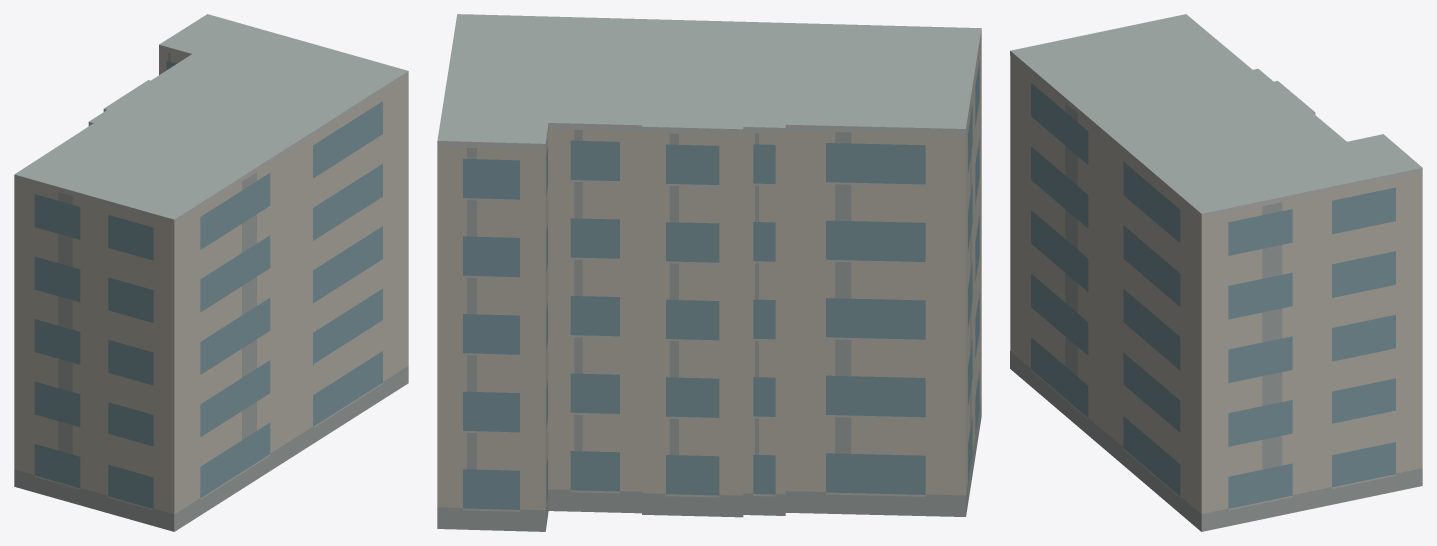
File: survey-upis-32755524.glb
3 views of the same model, side by side, from view 1: azimuth 30°, elevation 25°; view 2: azimuth 150°, elevation 25°; view 3: azimuth 270°, elevation 25° (orthographic). The views are drawn at different scales.
Visible parts, largest first — view 1: survey-upis-32755524.tmp; view 2: survey-upis-32755524.tmp; view 3: survey-upis-32755524.tmp.
Part boxes in pixels (x1,y1,x2,y2): survey-upis-32755524.tmp: [14, 14, 408, 531]; survey-upis-32755524.tmp: [437, 14, 981, 531]; survey-upis-32755524.tmp: [1010, 14, 1422, 531].
Size of the model in its own units: 20.55 by 15.25 by 17.93.
